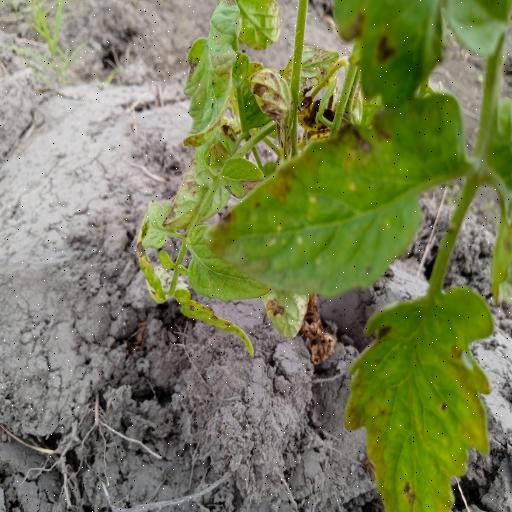Tomato_Brown_Spots: (186, 88, 476, 301), (340, 286, 504, 512)
